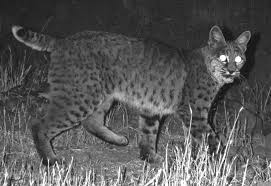bobcat: (5, 5, 265, 176)
